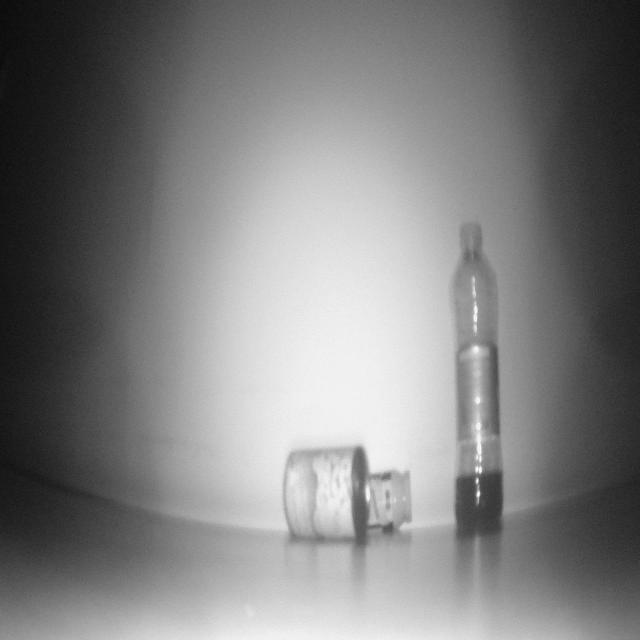targets: (452, 215, 503, 539), (284, 440, 370, 541), (331, 461, 416, 542)
